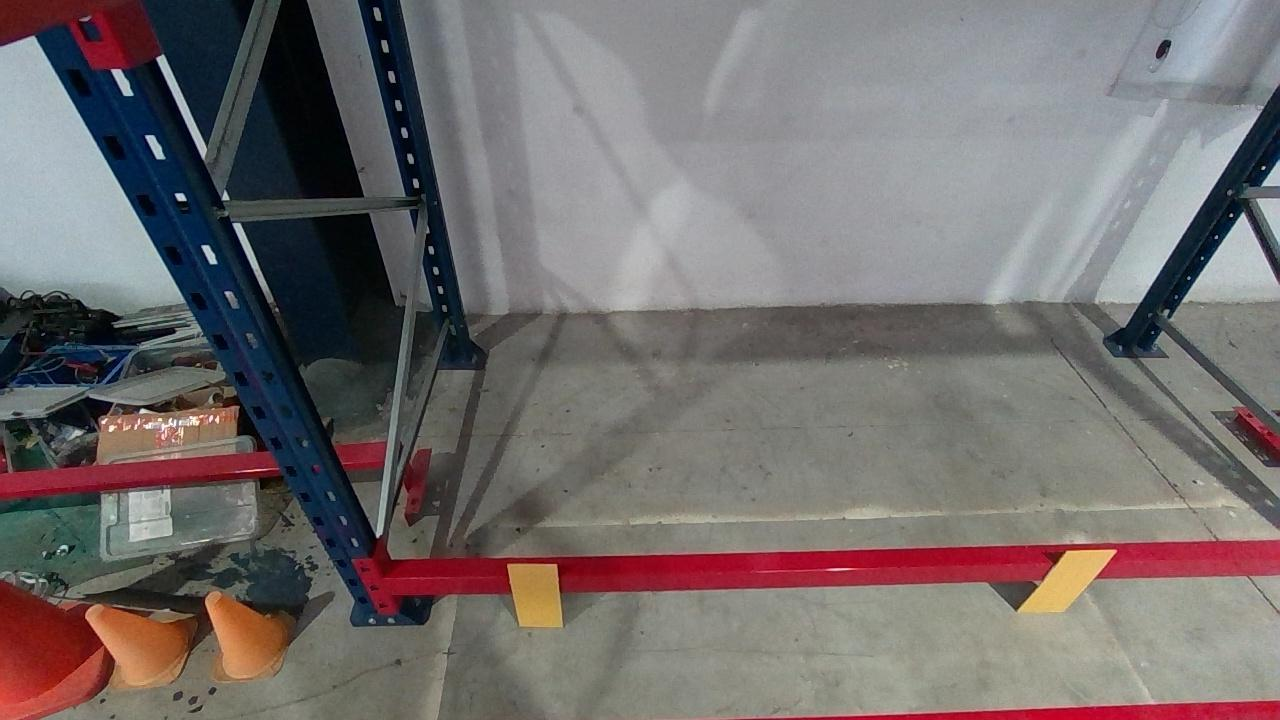h_rack: (379, 550, 1279, 597)
orange_strip: (1018, 548, 1123, 614), (507, 563, 563, 626)
